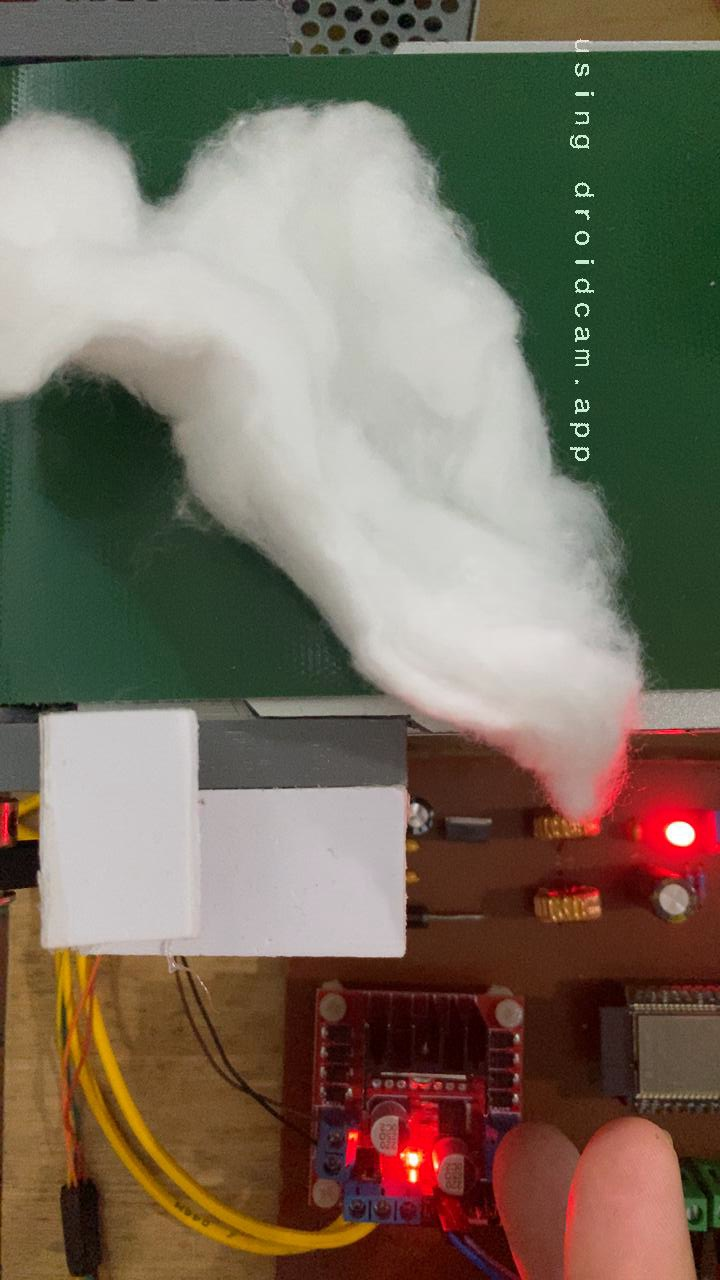cotton: (0, 95, 656, 695)
